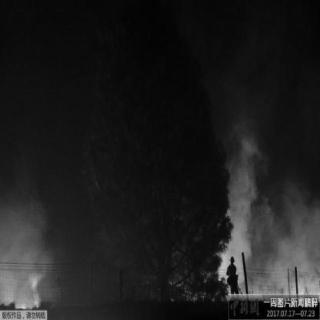Fire: (218, 250, 318, 296), (1, 238, 57, 312)
